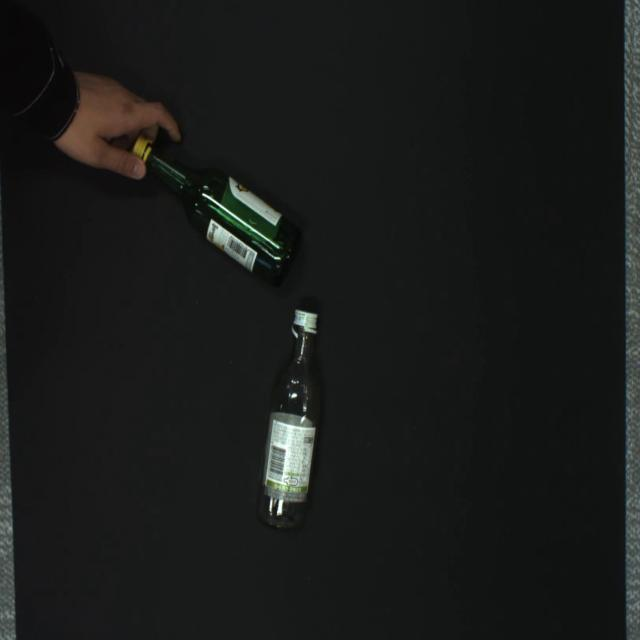soju-bottle: (131, 135, 302, 289), (255, 308, 323, 532)
